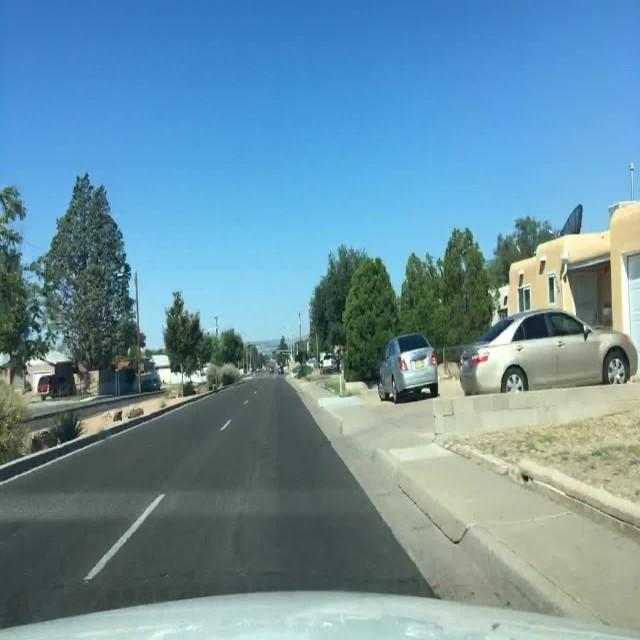normal: (460, 306, 639, 393), (379, 333, 442, 403)
